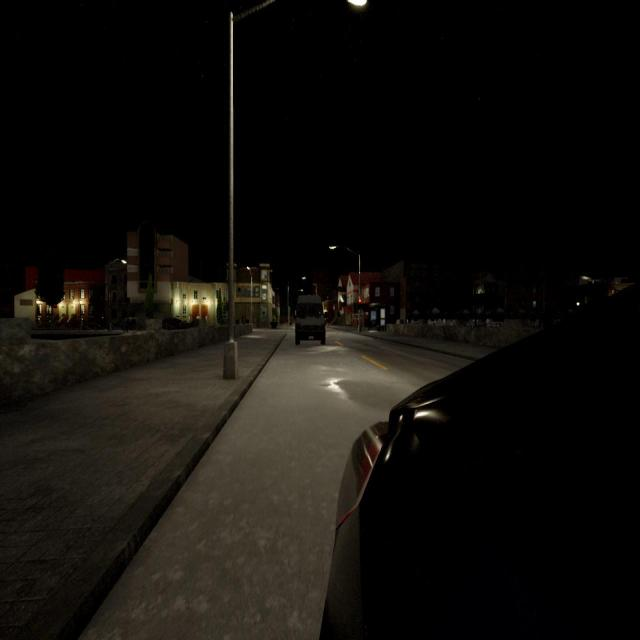Vehicle: (320, 286, 640, 638), (295, 295, 326, 345)
traffic_light: (358, 298, 361, 309)
